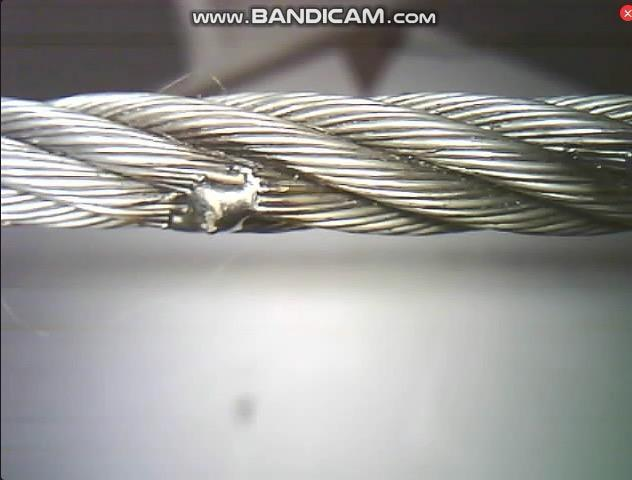thunderbolt: (162, 158, 289, 238)
